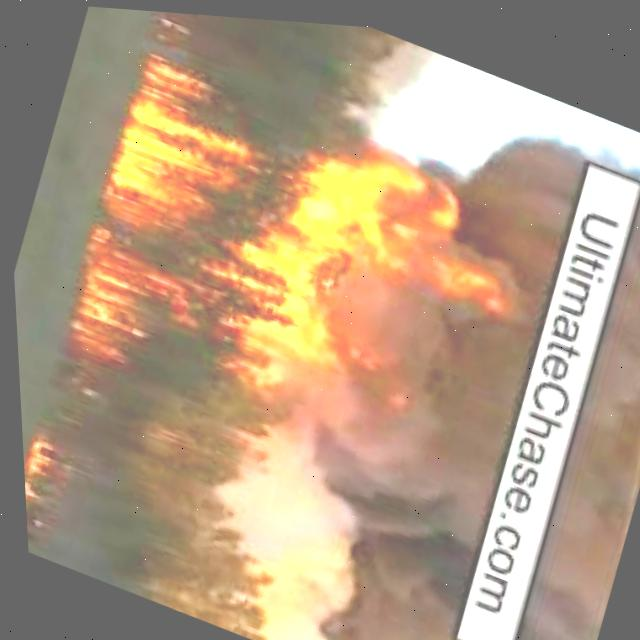Fire: (49, 53, 516, 489), (343, 107, 603, 640), (460, 157, 640, 640), (18, 432, 63, 525)
